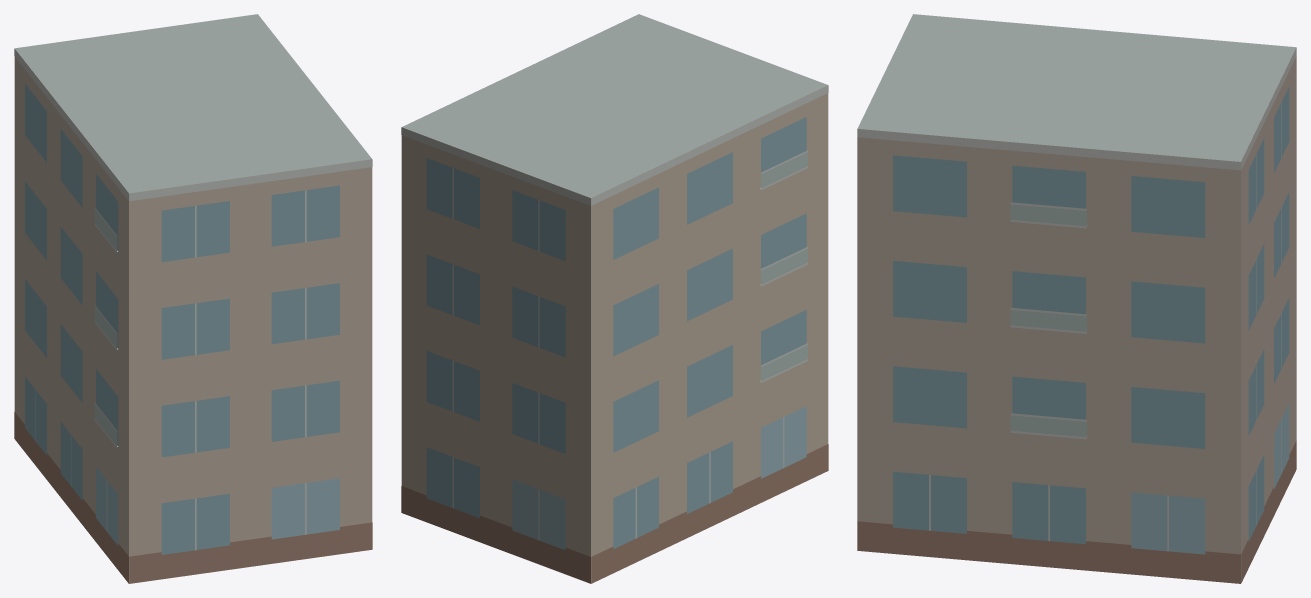
File: residential-bb19822e-dff2-436c-8418-a3383724195a.glb
3 renders of one model, left to right at view 1: azimuth 30°, elevation 25°; view 2: azimuth 150°, elevation 25°; view 3: azimuth 270°, elevation 25°, orthographic. The views are drawn at different scales.
Visible parts, largest first — view 1: residential-bb19822e-dff2-436c-8418-a3383724195a.tmp; view 2: residential-bb19822e-dff2-436c-8418-a3383724195a.tmp; view 3: residential-bb19822e-dff2-436c-8418-a3383724195a.tmp.
Boxes of the visible parts, left/top/right/bottom form: residential-bb19822e-dff2-436c-8418-a3383724195a.tmp: left=14, top=14, right=372, bottom=583; residential-bb19822e-dff2-436c-8418-a3383724195a.tmp: left=401, top=14, right=828, bottom=583; residential-bb19822e-dff2-436c-8418-a3383724195a.tmp: left=857, top=14, right=1296, bottom=583.
Bounding box in the file's own units: 9.18 × 12.2 × 11.52.
